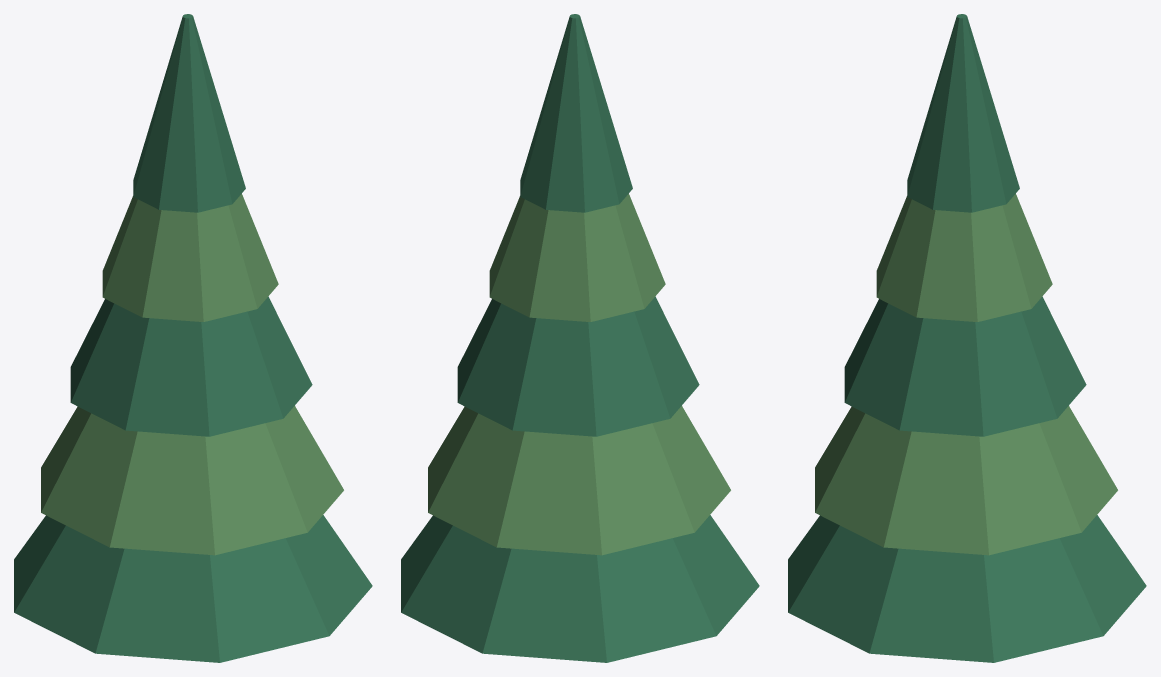
File: Environment_Tree_Mountain_Pine.fbx
The picture shows the model from 3 angles, left to right: view 1: azimuth 30°, elevation 25°; view 2: azimuth 150°, elevation 25°; view 3: azimuth 270°, elevation 25°; orthographic projection.
Visible parts, largest first — view 1: Pine_Canopy_Tier_1, Pine_Canopy_Tier_2, Pine_Canopy_Tier_3, Pine_Canopy_Tier_4, Pine_Canopy_Tier_5; view 2: Pine_Canopy_Tier_1, Pine_Canopy_Tier_2, Pine_Canopy_Tier_3, Pine_Canopy_Tier_4, Pine_Canopy_Tier_5; view 3: Pine_Canopy_Tier_1, Pine_Canopy_Tier_2, Pine_Canopy_Tier_3, Pine_Canopy_Tier_4, Pine_Canopy_Tier_5.
Part boxes in pixels (x1,y1,x2,y2): Pine_Canopy_Tier_1: (14,515,372,662); Pine_Canopy_Tier_2: (41,406,343,555); Pine_Canopy_Tier_3: (70,296,312,436); Pine_Canopy_Tier_4: (102,193,278,321); Pine_Canopy_Tier_5: (133,14,245,212); Pine_Canopy_Tier_1: (401,515,759,662); Pine_Canopy_Tier_2: (428,406,730,555); Pine_Canopy_Tier_3: (457,296,699,436); Pine_Canopy_Tier_4: (489,193,665,321); Pine_Canopy_Tier_5: (520,14,632,212); Pine_Canopy_Tier_1: (788,515,1146,662); Pine_Canopy_Tier_2: (815,406,1117,555); Pine_Canopy_Tier_3: (844,296,1086,436); Pine_Canopy_Tier_4: (876,193,1052,321); Pine_Canopy_Tier_5: (907,14,1019,212).
Size of the model in its own units: 3.45 by 6.6 by 3.39.
